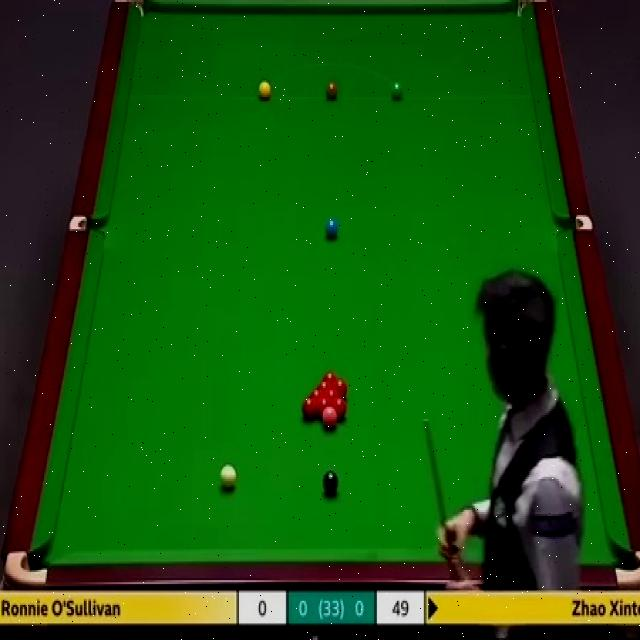black-ball: (322, 469, 339, 497)
blue-ball: (324, 216, 340, 240)
brown-ball: (325, 81, 339, 102)
green-ball: (391, 80, 406, 102)
pink-ball: (322, 406, 337, 430)
red-ball: (332, 398, 348, 420), (316, 397, 332, 419), (302, 397, 316, 421), (332, 378, 347, 395), (321, 369, 338, 380), (316, 378, 334, 388), (309, 386, 325, 397), (325, 387, 341, 398)
white-ball: (220, 462, 239, 491)
yellow-ball: (258, 80, 272, 101)
